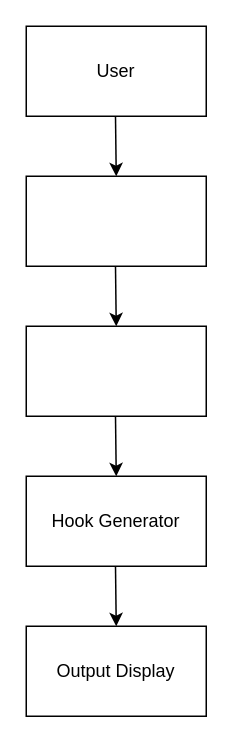
This 233x743 diagram has some shape labels left out. The shapes that lost their labels are listed below. From the top down, each one's centre as x and y in pixels, then its label:
At (115,220): "Web Interface (HTML / CSS)".
At (115,370): "JavaScript Logic".
